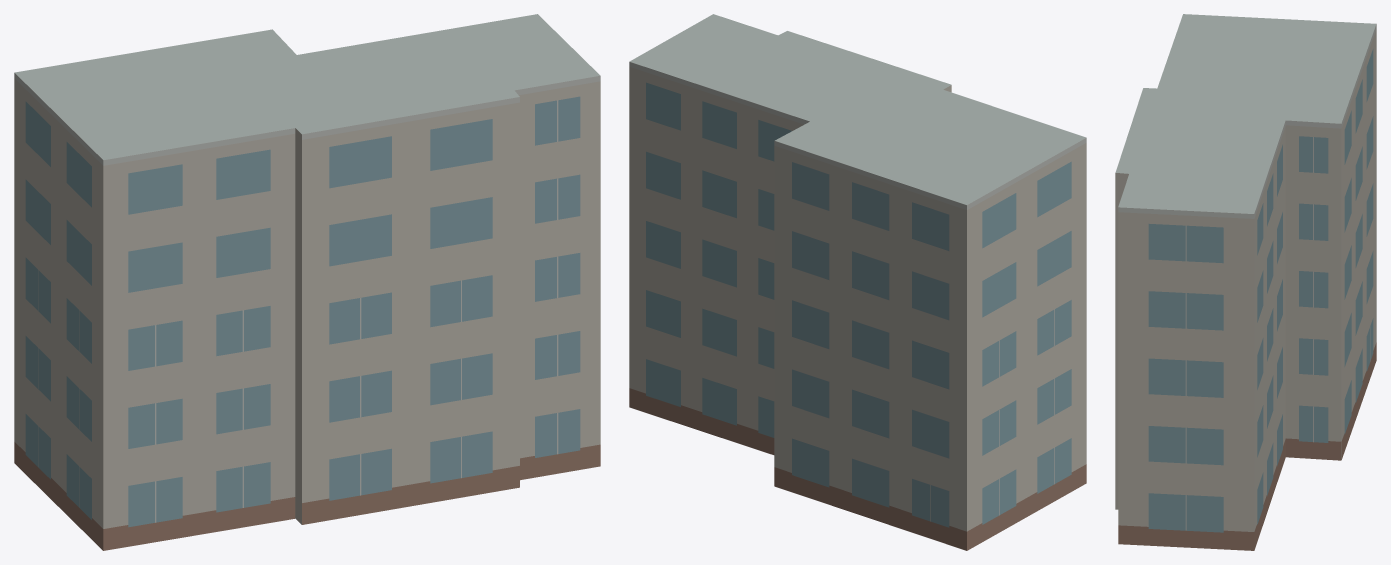
File: survey-upis-32908772.glb
3 views of the same model, side by side, from view 1: azimuth 30°, elevation 25°; view 2: azimuth 150°, elevation 25°; view 3: azimuth 270°, elevation 25° (orthographic). The views are drawn at different scales.
Visible parts, largest first — view 1: survey-upis-32908772.tmp; view 2: survey-upis-32908772.tmp; view 3: survey-upis-32908772.tmp.
Part boxes in pixels (left/top/right/bottom): survey-upis-32908772.tmp: left=14, top=14, right=600, bottom=550; survey-upis-32908772.tmp: left=629, top=14, right=1086, bottom=550; survey-upis-32908772.tmp: left=1115, top=14, right=1376, bottom=550.
Size of the model in its own units: 21.67 by 17 by 11.95.
